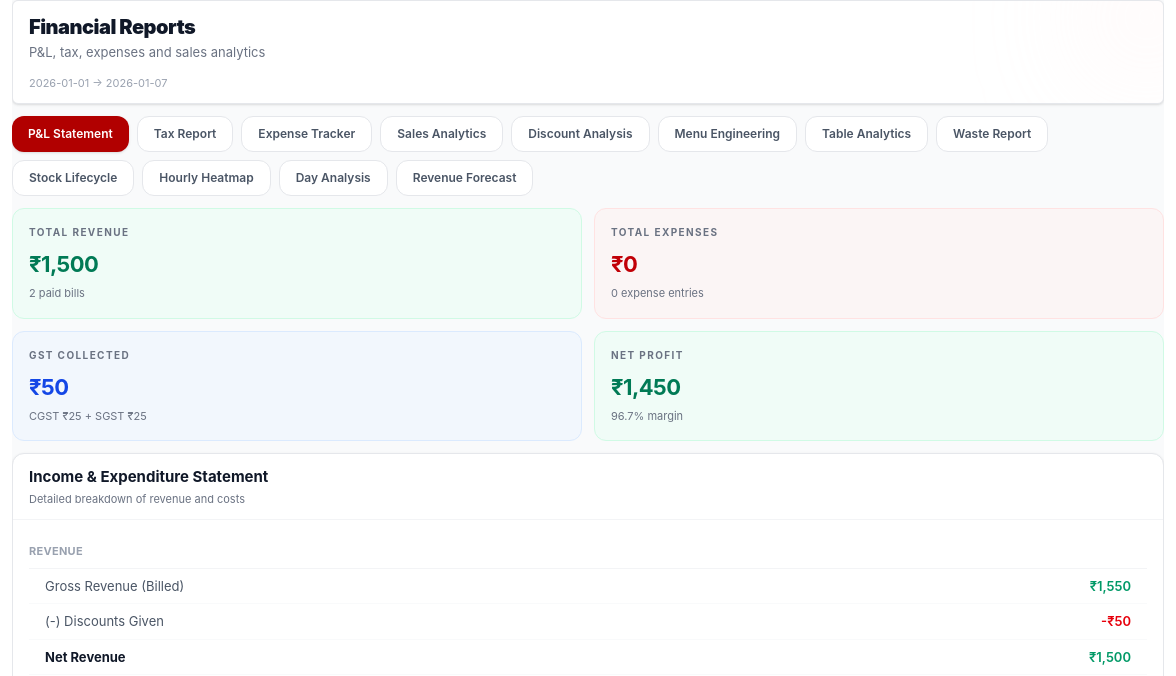
Reports page — characterisation › renders the Stock Lifecycle tab's own content
This screenshot has width=1176, height=676.
Click the button "Stock Lifecycle" at (73, 178), box top-left (12, 160), bottom-right (134, 196)
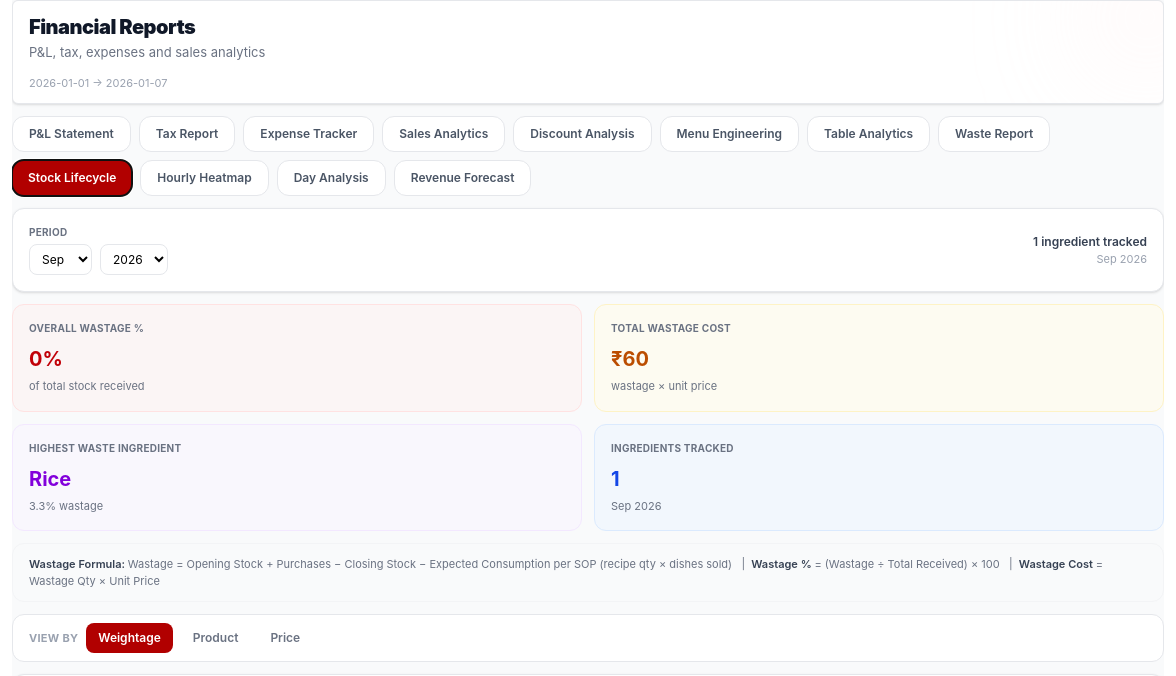
Now the text "Highest Waste Ingredient" is shown, box top-left (29, 442), bottom-right (181, 454)
